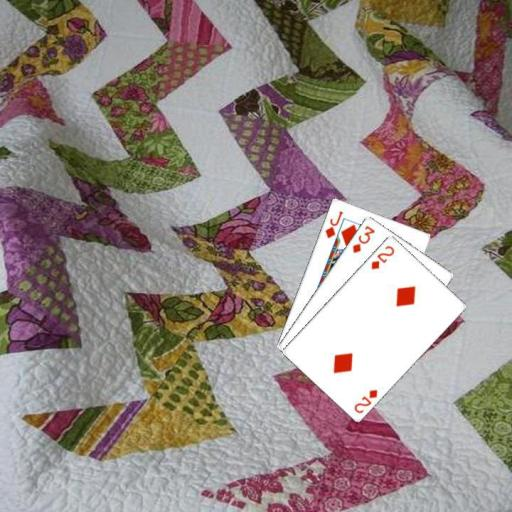2D: (368, 242, 396, 271), (351, 386, 379, 415)
3D: (349, 222, 376, 254)
JD: (322, 208, 345, 240)
